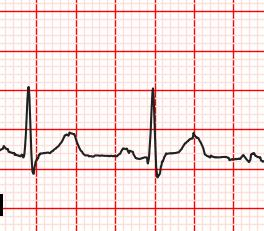ST Depression: (140, 146, 167, 185), (20, 146, 43, 177)
